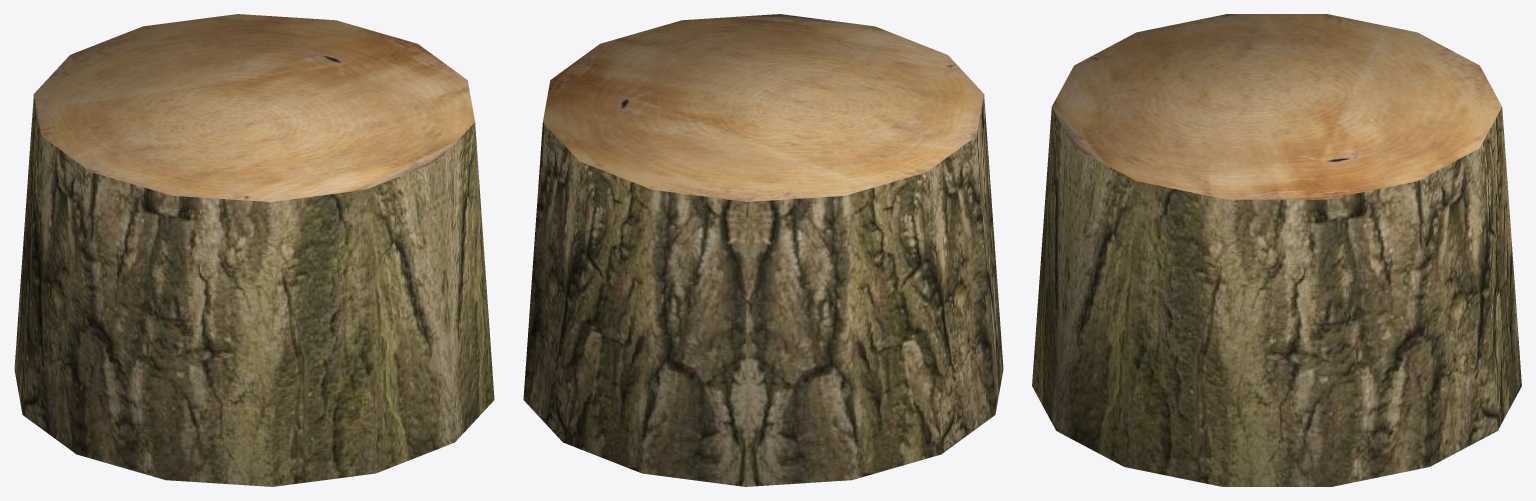
The model's file is log.fbx.
3 views of the same model, side by side, from view 1: azimuth 30°, elevation 25°; view 2: azimuth 150°, elevation 25°; view 3: azimuth 270°, elevation 25° (orthographic).
Visible parts, largest first — view 1: log; view 2: log; view 3: log.
Boxes of the visible parts, x1,y1,x2,y2 form: log: [14, 14, 494, 486]; log: [523, 14, 1003, 486]; log: [1032, 14, 1521, 486].
Size of the model in its own units: 1.17 by 0.7546 by 1.2.
